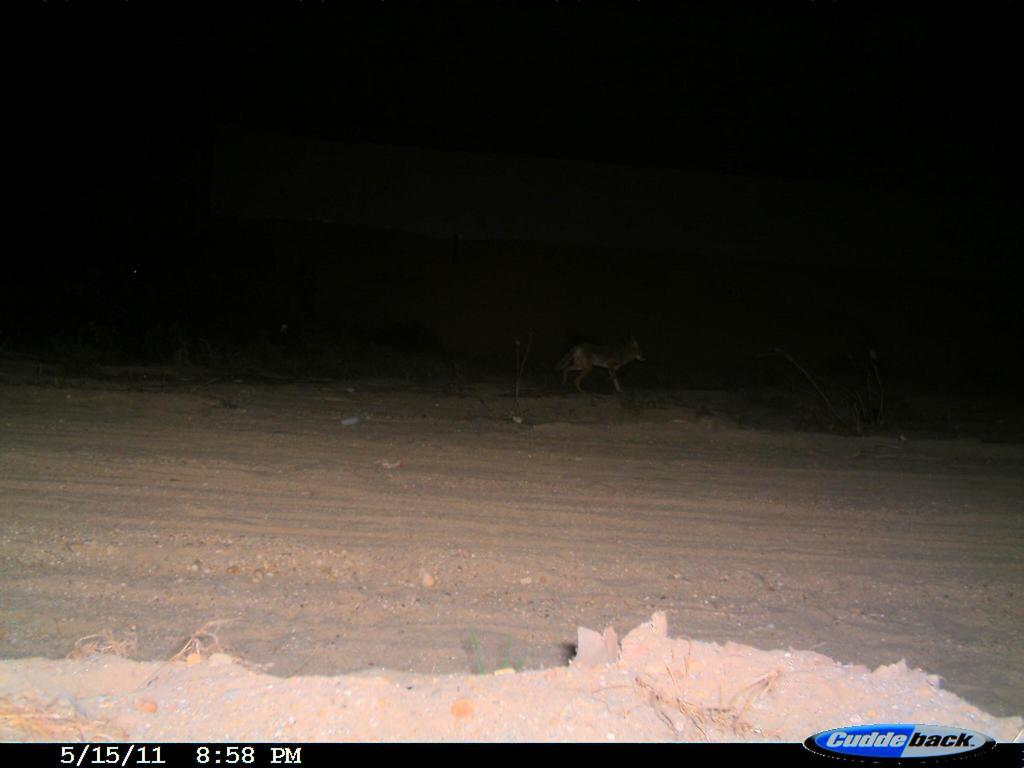coyote: (542, 333, 658, 404)
